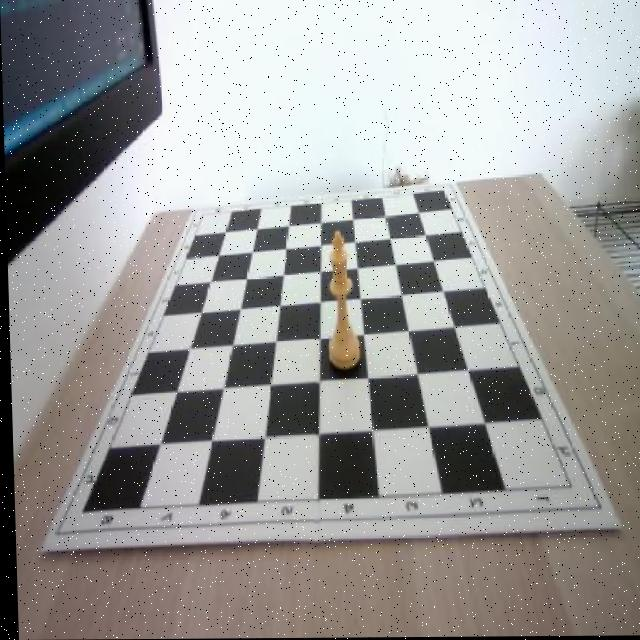white-bishop: (321, 228, 358, 370)
